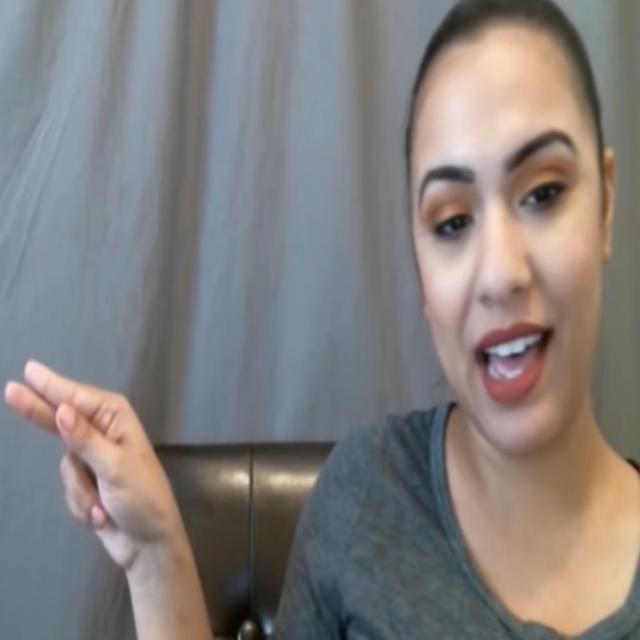H: (3, 356, 196, 568)
